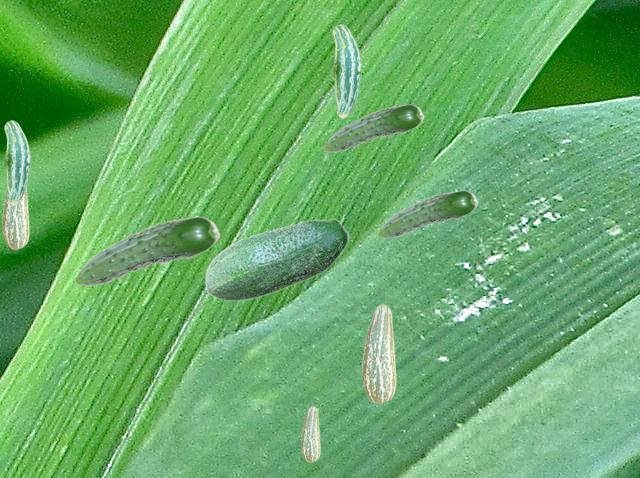cucumber: (204, 218, 349, 300), (74, 216, 219, 285), (377, 190, 477, 237), (323, 104, 423, 151), (362, 304, 395, 402), (332, 24, 360, 117), (4, 120, 29, 204), (2, 186, 28, 248), (301, 406, 319, 461)
